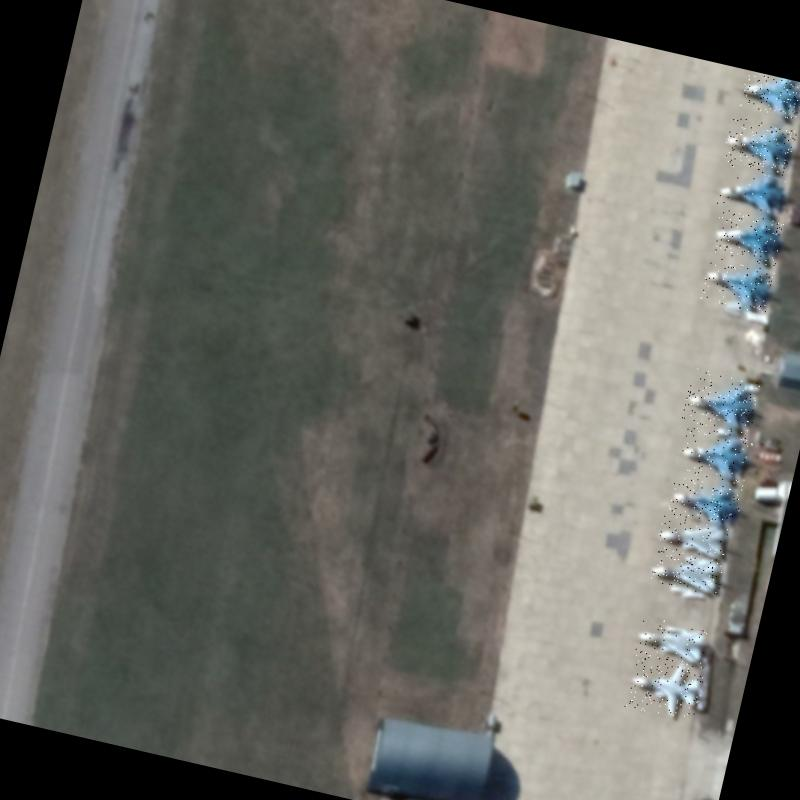A19: (681, 367, 761, 435), (676, 424, 753, 486), (721, 115, 797, 176), (666, 473, 745, 531), (700, 256, 776, 314), (710, 208, 784, 267), (715, 162, 788, 218), (738, 70, 800, 121)
A20: (624, 650, 707, 722), (634, 614, 709, 666), (648, 546, 725, 596), (655, 512, 732, 561)
